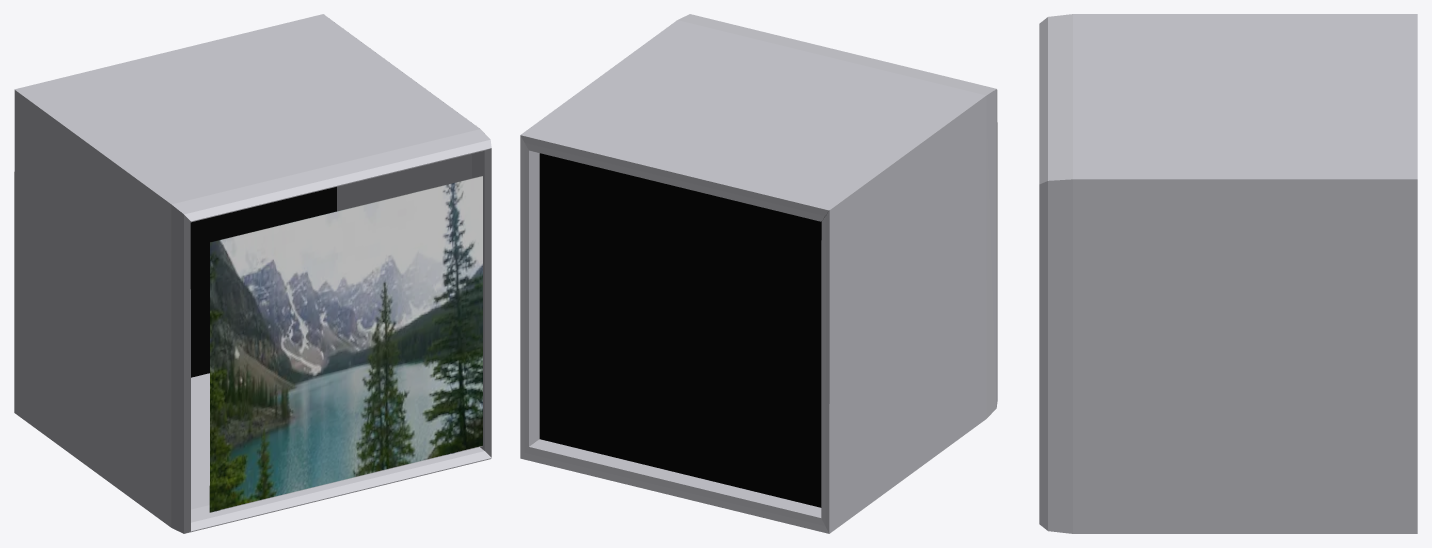
Rendered from sh-contrib-lake-moraine-frame.glb.
The picture shows the model from 3 angles, left to right: view 1: azimuth 30°, elevation 25°; view 2: azimuth 150°, elevation 25°; view 3: azimuth 270°, elevation 25°; orthographic projection. The views are drawn at different scales.
Parts seen in each view (by area): view 1: MetalFrame_Cylinder_Aluminium.007, Photo_Cube_Material_LakeMoraine, Frame_Black_Material.008; view 2: MetalFrame_Cylinder_Aluminium.007, Frame_Black_Material.008; view 3: MetalFrame_Cylinder_Aluminium.007.
Part boxes in pixels (box(x1,y1,x2,y2)): MetalFrame_Cylinder_Aluminium.007: box(14, 14, 491, 533); Photo_Cube_Material_LakeMoraine: box(209, 176, 482, 512); Frame_Black_Material.008: box(190, 187, 336, 377); MetalFrame_Cylinder_Aluminium.007: box(520, 14, 997, 533); Frame_Black_Material.008: box(539, 153, 829, 507); MetalFrame_Cylinder_Aluminium.007: box(1039, 14, 1417, 533).
Bounding box in the file's own units: 1 × 1 × 1.
Materials: 3 (1 with a texture image).
